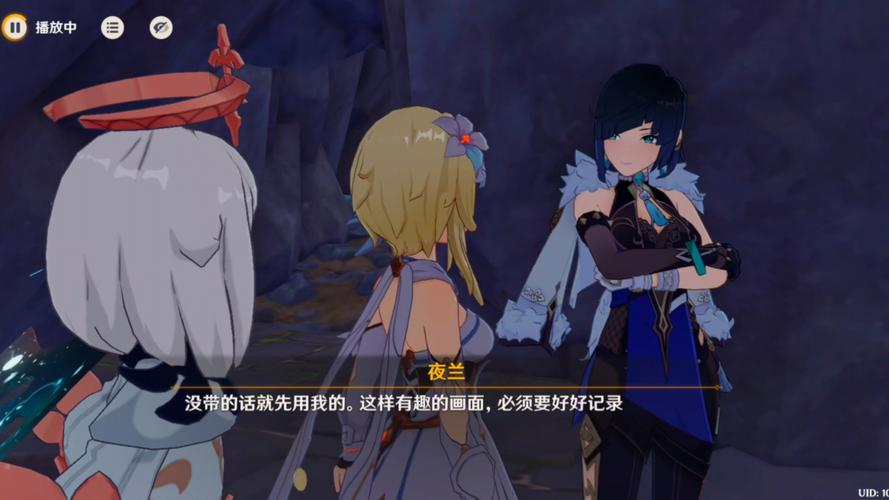夜兰: (568, 60, 739, 500)
